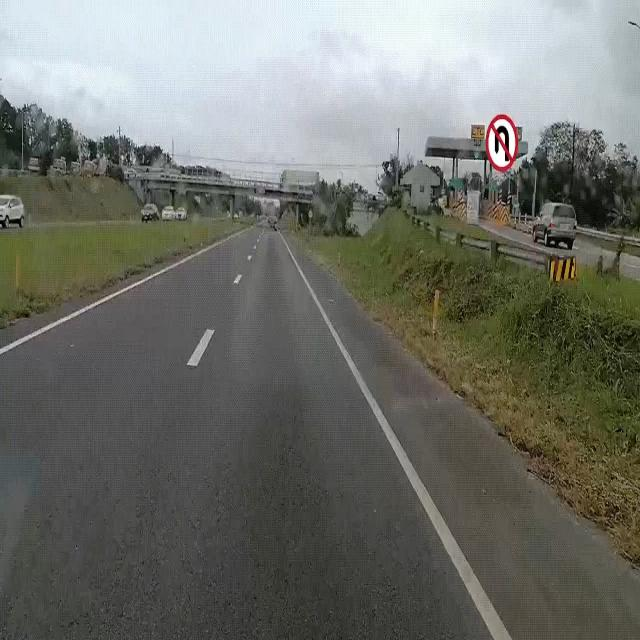Demi-Tour-Interdit: (484, 108, 522, 174)
